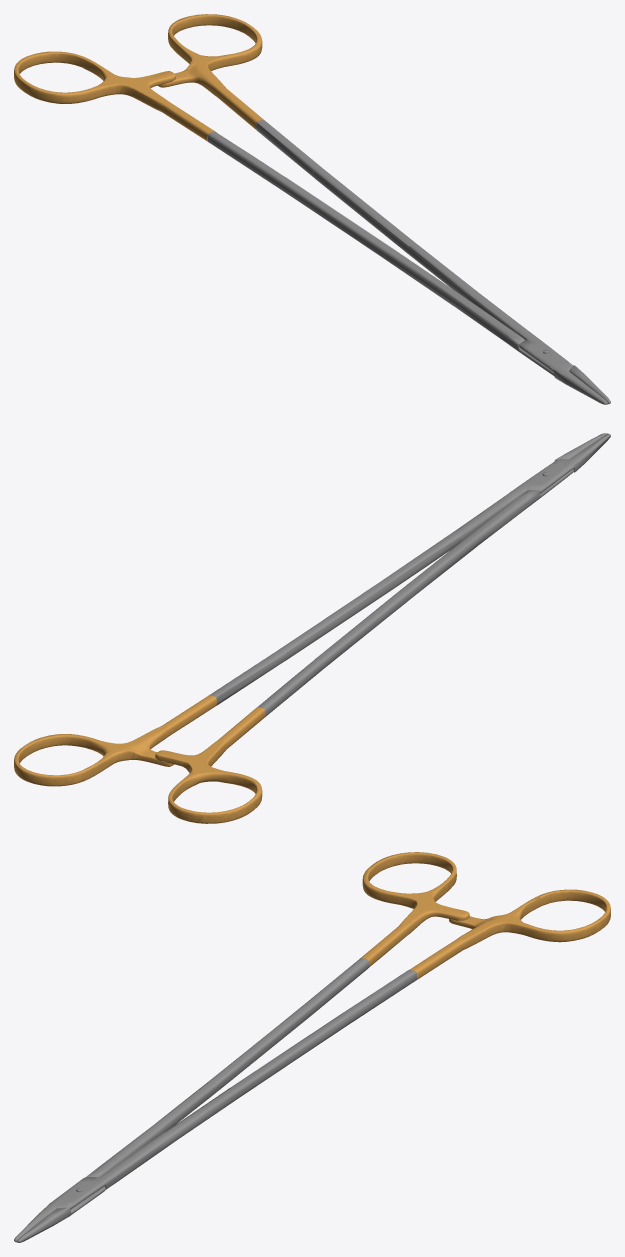
File: porte_aiguille.glb
3 views of the same model, one above another, from view 1: azimuth 30°, elevation 25°; view 2: azimuth 150°, elevation 25°; view 3: azimuth 330°, elevation 25° (orthographic).
Visible parts, largest first — view 1: Needle holder DeBakey_Metal_0, Needle holder DeBakey_Gold_0; view 2: Needle holder DeBakey_Metal_0, Needle holder DeBakey_Gold_0; view 3: Needle holder DeBakey_Metal_0, Needle holder DeBakey_Gold_0.
Boxes of the visible parts, box(x1,y1,x2,y2) form: Needle holder DeBakey_Metal_0: box(208, 120, 610, 404); Needle holder DeBakey_Gold_0: box(14, 14, 263, 141); Needle holder DeBakey_Metal_0: box(209, 433, 610, 716); Needle holder DeBakey_Gold_0: box(14, 695, 265, 823); Needle holder DeBakey_Metal_0: box(14, 958, 416, 1242); Needle holder DeBakey_Gold_0: box(360, 852, 610, 979).
Bounding box in the file's own units: 0.0839 × 0.00414 × 0.3155.
